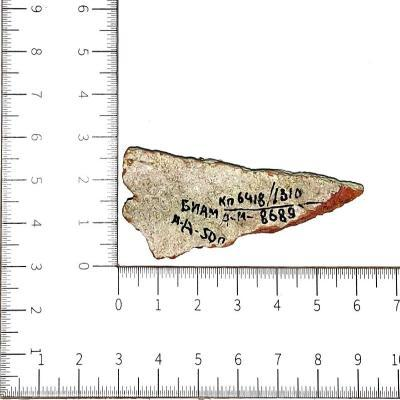archeology: (120, 147, 364, 261)
